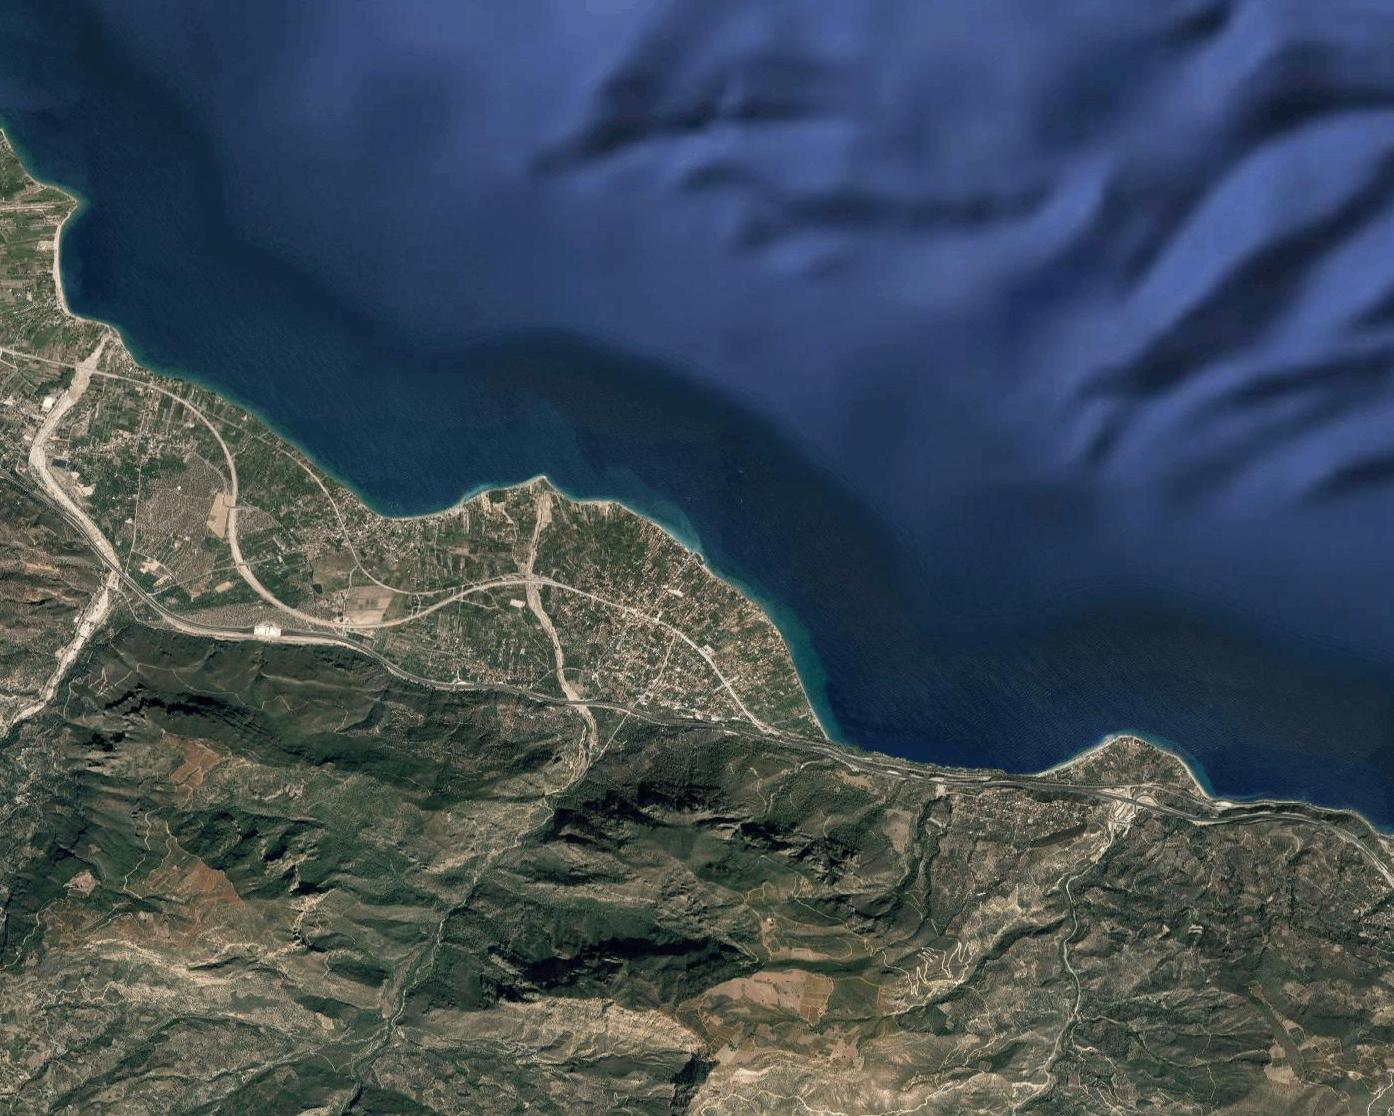harbor: (688, 545, 712, 568)
motorway: (763, 731, 885, 776), (74, 528, 151, 597), (1, 465, 75, 527), (886, 762, 1049, 790), (1163, 806, 1336, 831), (147, 597, 252, 635), (622, 707, 758, 737), (374, 655, 484, 691), (486, 682, 622, 712), (251, 622, 376, 653), (1052, 782, 1161, 813), (1339, 828, 1393, 884)
